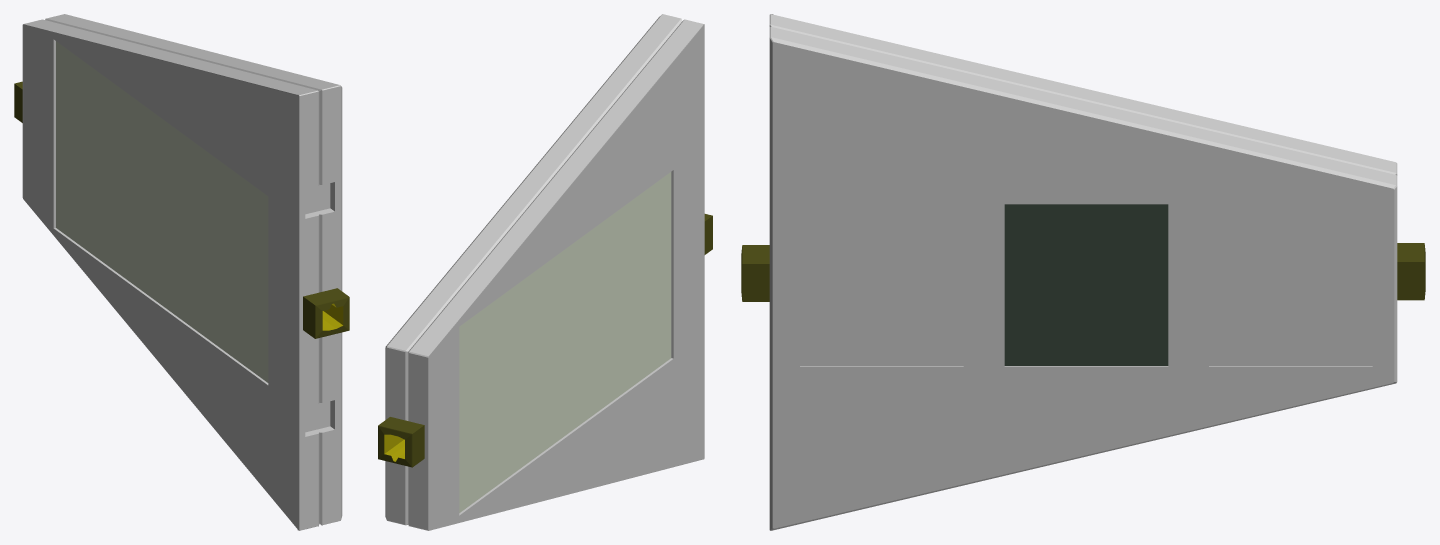
Rendered from SM_DelayComponent.fbx.
The picture shows the model from 3 angles, left to right: view 1: azimuth 30°, elevation 25°; view 2: azimuth 150°, elevation 25°; view 3: azimuth 270°, elevation 25°; orthographic projection. The views are drawn at different scales.
Parts seen in each view (by area): view 1: SwitchComponent; view 2: SwitchComponent; view 3: SwitchComponent.
Boxes of the visible parts, x1,y1,x2,y2 form: SwitchComponent: (14, 14, 349, 530); SwitchComponent: (378, 14, 712, 530); SwitchComponent: (741, 14, 1425, 530).
Bounding box in the file's own units: 2.12 × 19.99 × 25.1.
